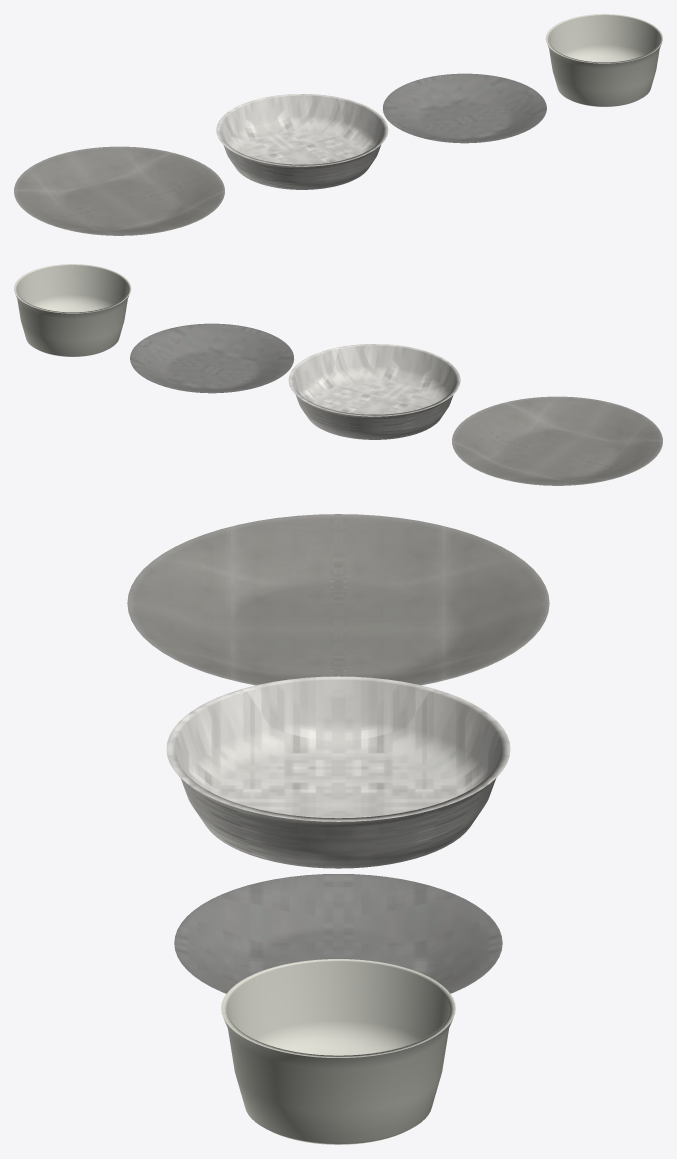
File: RAY-09.glb
3 views of the same model, one above another, from view 1: azimuth 30°, elevation 25°; view 2: azimuth 150°, elevation 25°; view 3: azimuth 270°, elevation 25° (orthographic). The views are drawn at different scales.
Size of the model in its own units: 0.926 by 0.07 by 0.27.
Materials: 8 (8 with a texture image).
